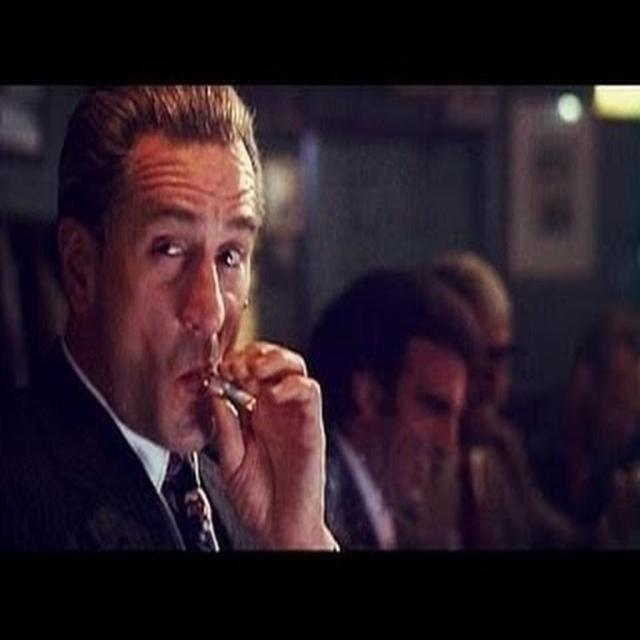smoking: (58, 85, 268, 477)
